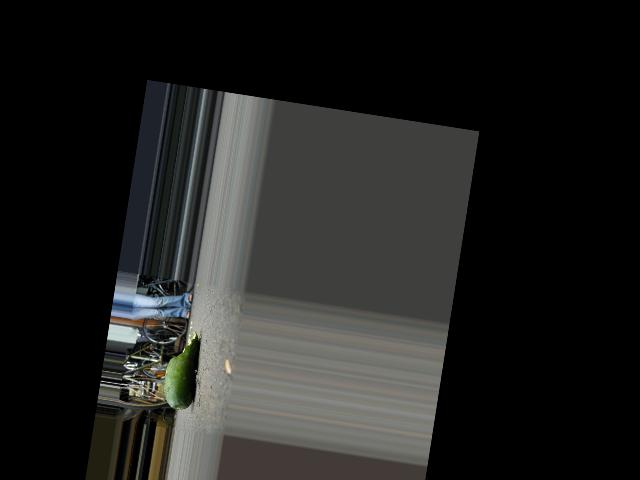cucumber: (160, 326, 203, 411)
